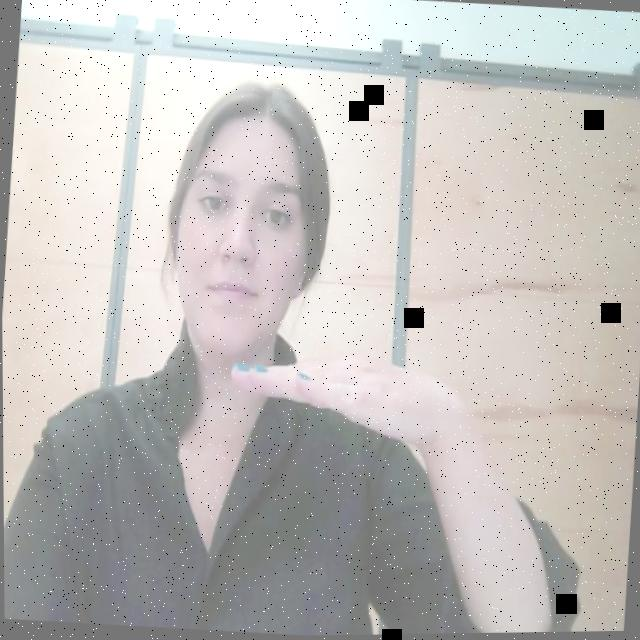Paper: (238, 323, 446, 465)
